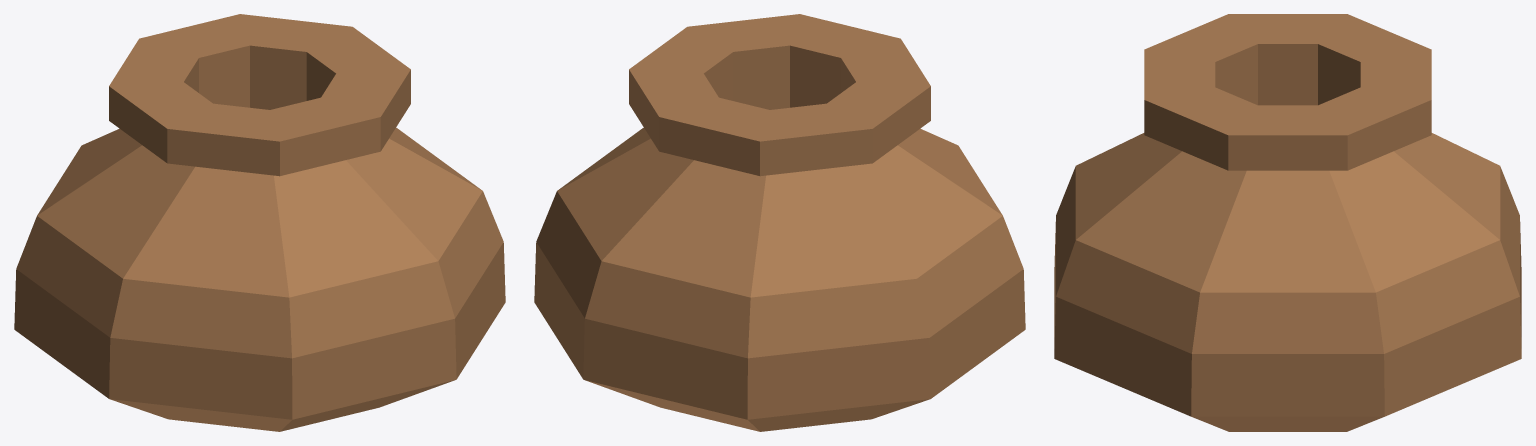
The model's file is Jug_01.fbx.
3 views of the same model, side by side, from view 1: azimuth 30°, elevation 25°; view 2: azimuth 150°, elevation 25°; view 3: azimuth 270°, elevation 25° (orthographic). The views are drawn at different scales.
Parts seen in each view (by area): view 1: Jug_01; view 2: Jug_01; view 3: Jug_01.
Part boxes in pixels (left/top/right/bottom): Jug_01: left=14, top=14, right=505, bottom=431; Jug_01: left=534, top=14, right=1025, bottom=431; Jug_01: left=1054, top=14, right=1521, bottom=431.
Size of the model in its own units: 37.68 by 26.43 by 37.68.
